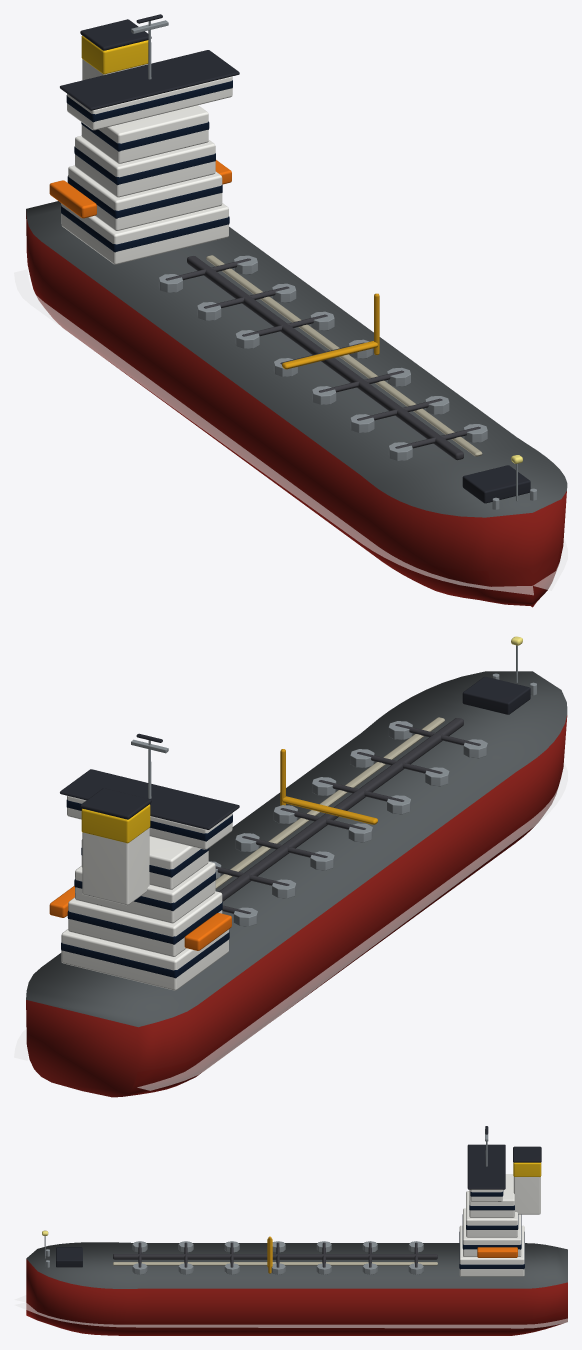
Rendered from ship_tanker.glb.
The picture shows the model from 3 angles, top to bottom: view 1: azimuth 30°, elevation 25°; view 2: azimuth 150°, elevation 25°; view 3: azimuth 270°, elevation 25°; orthographic projection. The views are drawn at different scales.
Parts seen in each view (by area): view 1: Rumpf, Teil_Aufbau_Weiss, Teil_Dunkel, Teil_Rohr, Teil_Fenster, Teil_Stahl, Foam, Teil_Laufsteg, Teil_Schornstein, Teil_Rettungsboot, Teil_Gelb; view 2: Rumpf, Teil_Aufbau_Weiss, Teil_Dunkel, Teil_Rohr, Teil_Stahl, Foam, Teil_Fenster, Teil_Laufsteg, Teil_Schornstein, Teil_Rettungsboot, Teil_Gelb; view 3: Rumpf, Teil_Aufbau_Weiss, Teil_Dunkel, Teil_Rohr, Foam, Teil_Stahl, Teil_Fenster, Teil_Laufsteg, Teil_Rettungsboot, Teil_Schornstein.
Part boxes in pixels (left/top/right/bottom): Rumpf: left=26, top=201, right=567, bottom=607; Teil_Aufbau_Weiss: left=61, top=59, right=232, bottom=264; Teil_Dunkel: left=60, top=14, right=530, bottom=503; Teil_Rohr: left=165, top=256, right=480, bottom=460; Teil_Fenster: left=61, top=80, right=232, bottom=252; Teil_Stahl: left=131, top=20, right=536, bottom=509; Foam: left=14, top=269, right=567, bottom=595; Teil_Laufsteg: left=206, top=255, right=482, bottom=456; Teil_Schornstein: left=81, top=35, right=148, bottom=74; Teil_Rettungsboot: left=49, top=160, right=231, bottom=218; Teil_Gelb: left=282, top=293, right=379, bottom=369; Rumpf: left=26, top=671, right=567, bottom=1097; Teil_Aufbau_Weiss: left=61, top=796, right=232, bottom=990; Teil_Dunkel: left=60, top=676, right=530, bottom=829; Teil_Rohr: left=215, top=718, right=480, bottom=913; Teil_Stahl: left=131, top=645, right=536, bottom=926; Foam: left=14, top=762, right=567, bottom=1090; Teil_Fenster: left=61, top=799, right=232, bottom=978; Teil_Laufsteg: left=215, top=717, right=444, bottom=888; Teil_Schornstein: left=81, top=804, right=150, bottom=843; Teil_Rettungsboot: left=49, top=886, right=231, bottom=950; Teil_Gelb: left=280, top=749, right=377, bottom=824; Rumpf: left=26, top=1242, right=567, bottom=1335; Teil_Aufbau_Weiss: left=459, top=1174, right=540, bottom=1276; Teil_Dunkel: left=56, top=1126, right=541, bottom=1267; Teil_Rohr: left=113, top=1242, right=437, bottom=1267; Foam: left=14, top=1295, right=567, bottom=1328; Teil_Stahl: left=44, top=1129, right=488, bottom=1274; Teil_Fenster: left=459, top=1190, right=524, bottom=1269; Teil_Laufsteg: left=113, top=1262, right=437, bottom=1265; Teil_Rettungsboot: left=477, top=1247, right=517, bottom=1257; Teil_Schornstein: left=513, top=1162, right=541, bottom=1176.
Size of the model in its own units: 18.24 by 31.45 by 81.8.
